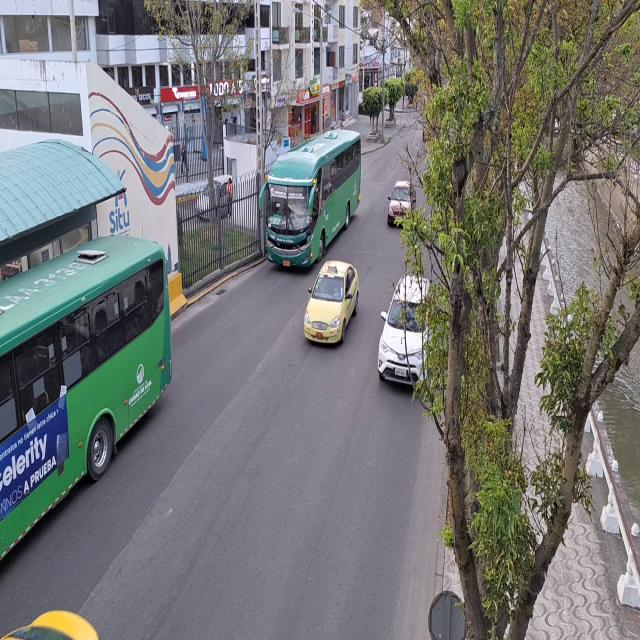BUS: (0, 237, 160, 575), (264, 130, 361, 268)
SED: (303, 258, 359, 344)
